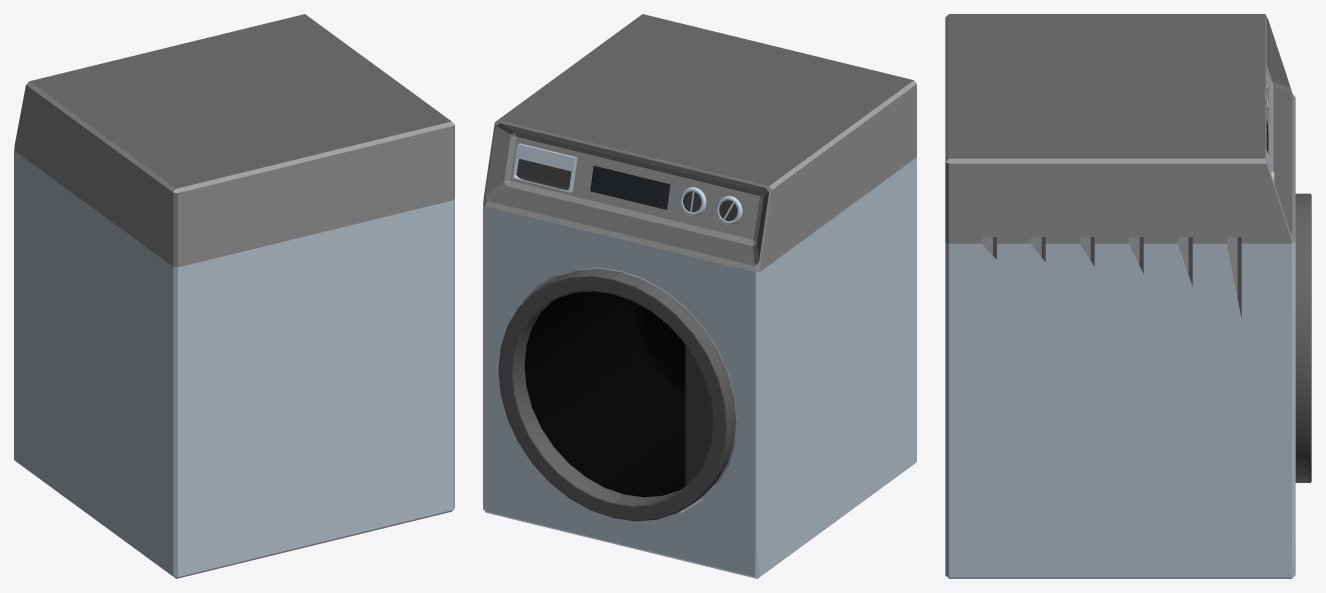
The model's file is washing machine.fbx.
3 views of the same model, side by side, from view 1: azimuth 30°, elevation 25°; view 2: azimuth 150°, elevation 25°; view 3: azimuth 270°, elevation 25° (orthographic). The views are drawn at different scales.
Visible parts, largest first — view 1: pointer.001; view 2: pointer.001; view 3: pointer.001.
Boxes of the visible parts, bbox=[...] form: pointer.001: bbox=[14, 14, 454, 578]; pointer.001: bbox=[483, 14, 916, 578]; pointer.001: bbox=[945, 14, 1311, 578].
Bounding box in the file's own units: 200 × 265 × 209.
